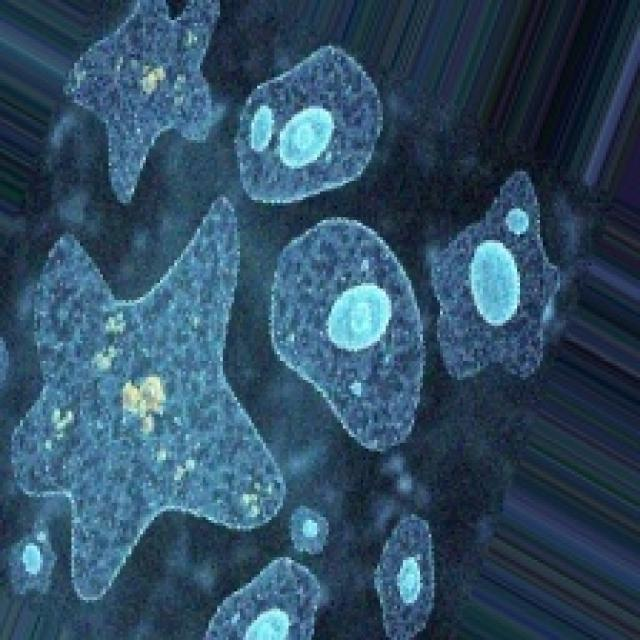Amoeba: (0, 0, 603, 637)
